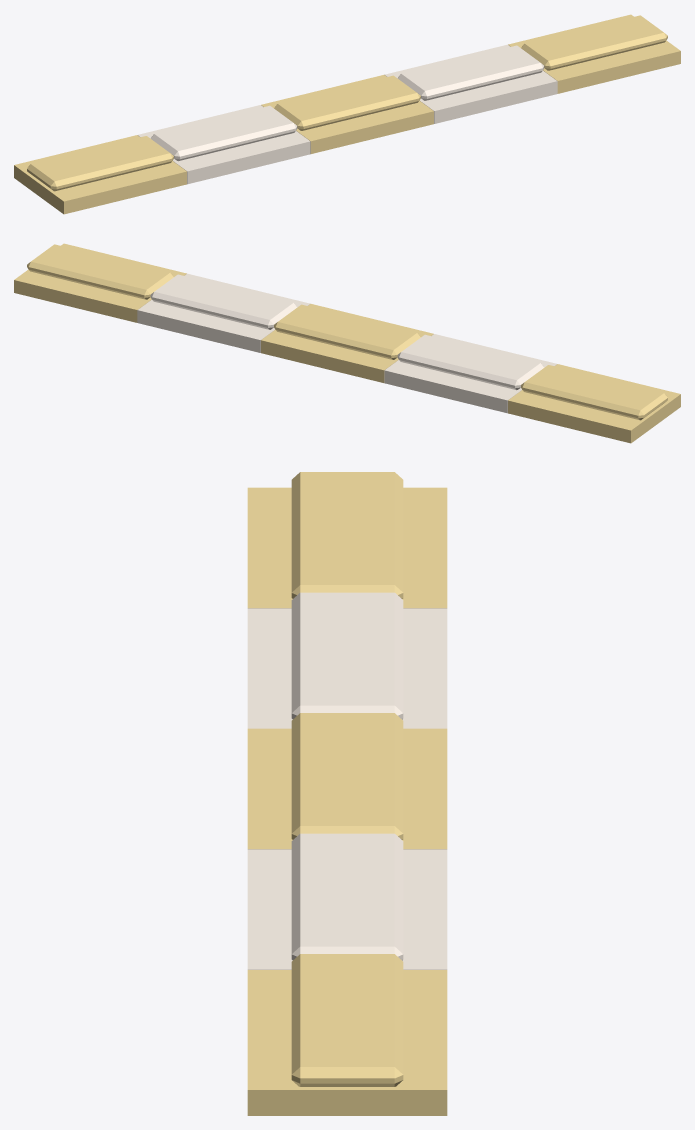
The model's file is CleanACat_Prop_SpeedBump.fbx.
3 renders of one model, top to bottom at view 1: azimuth 30°, elevation 25°; view 2: azimuth 150°, elevation 25°; view 3: azimuth 270°, elevation 25°, orthographic. The views are drawn at different scales.
Parts seen in each view (by area): view 1: CleanACat_Prop_SpeedBump; view 2: CleanACat_Prop_SpeedBump; view 3: CleanACat_Prop_SpeedBump.
Part boxes in pixels (box(x1,y1,x2,y2)): CleanACat_Prop_SpeedBump: box(14, 14, 680, 214); CleanACat_Prop_SpeedBump: box(14, 243, 680, 443); CleanACat_Prop_SpeedBump: box(247, 472, 447, 1115).
Bounding box in the file's own units: 10 × 0.35 × 1.4.
1 material, 1 textured.
